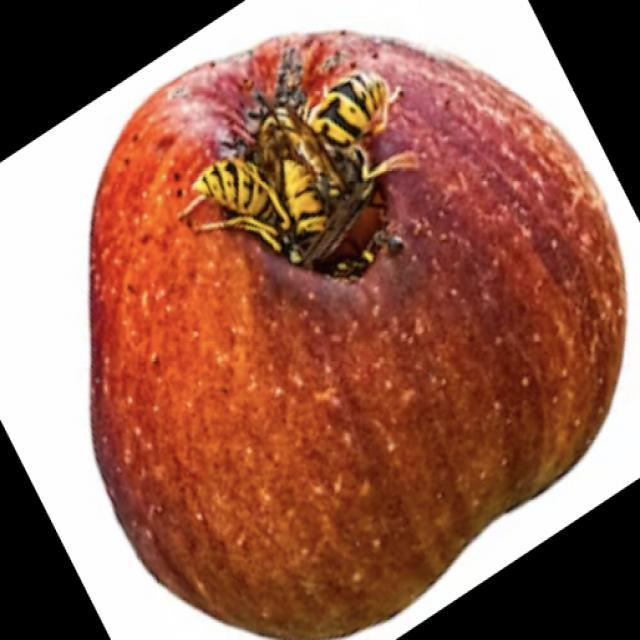Rotten: (75, 30, 628, 640)
